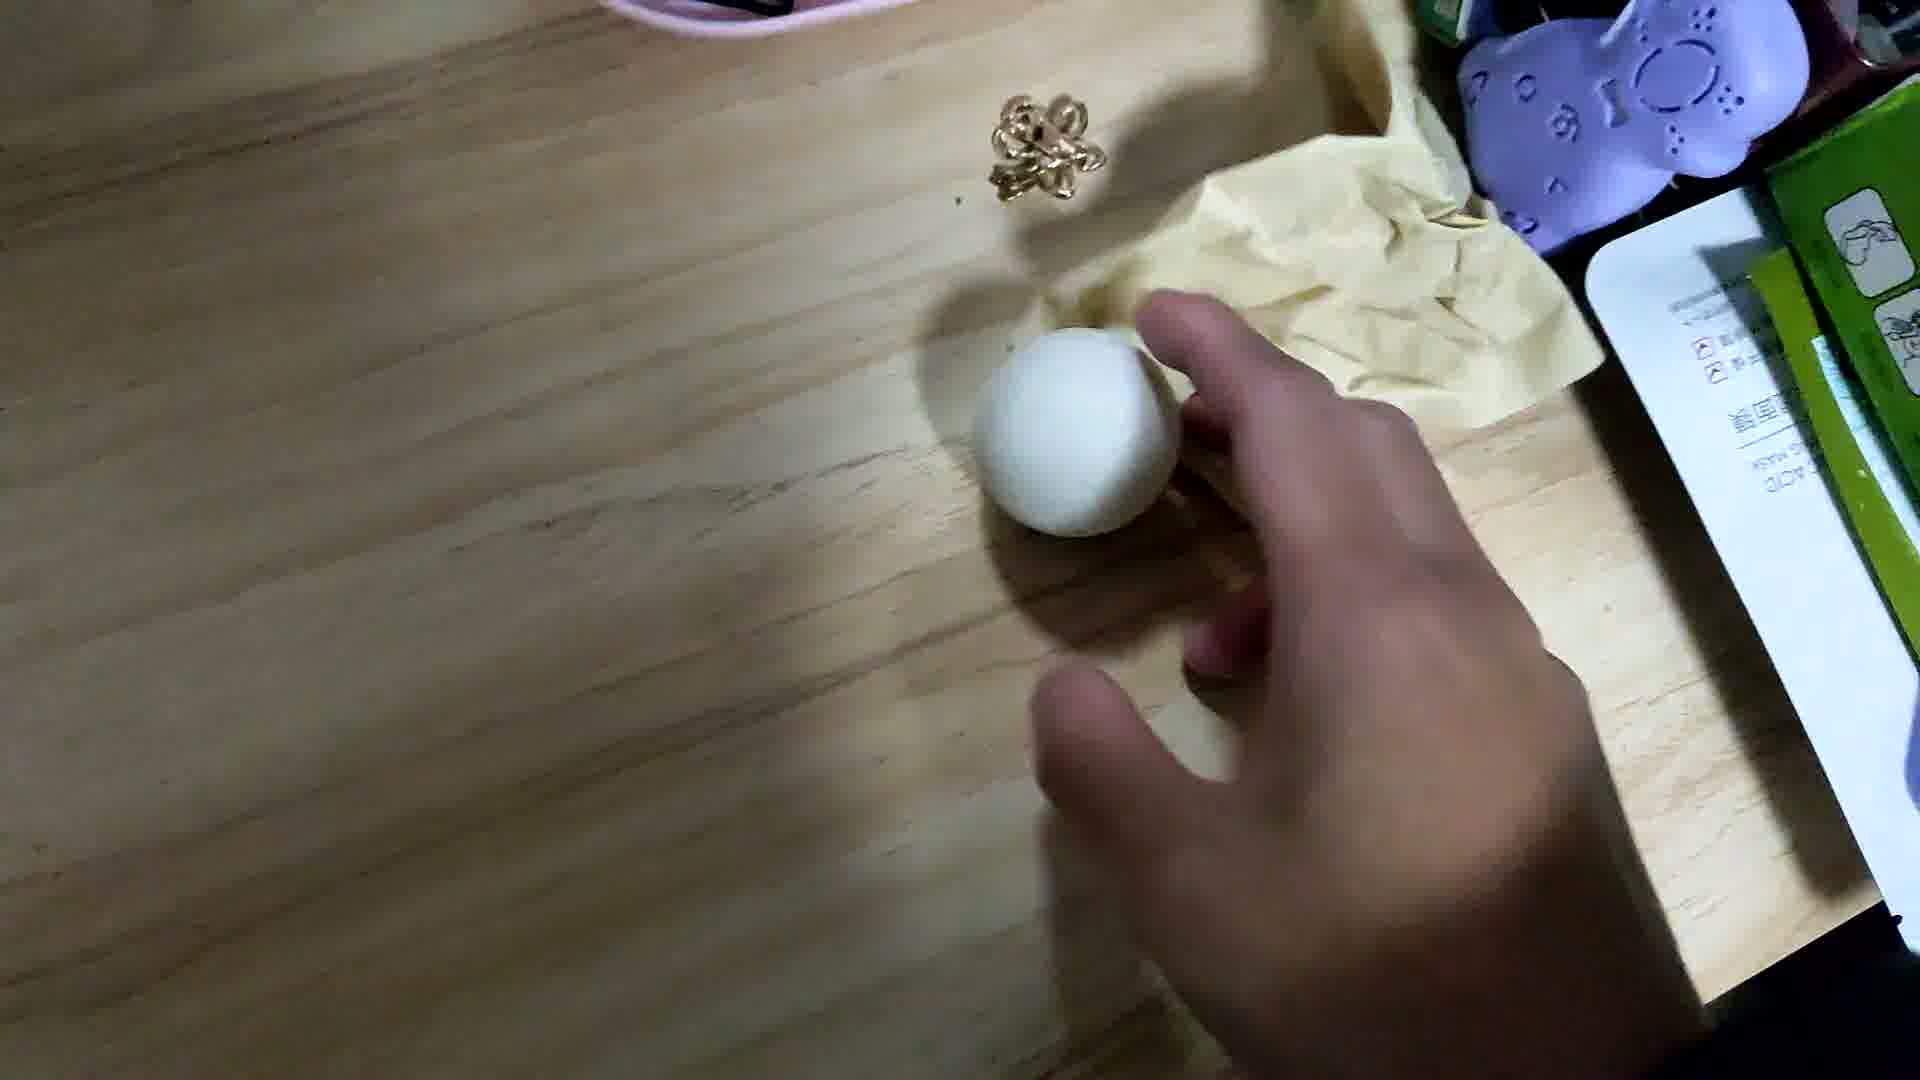Ball: (975, 316, 1178, 535)
